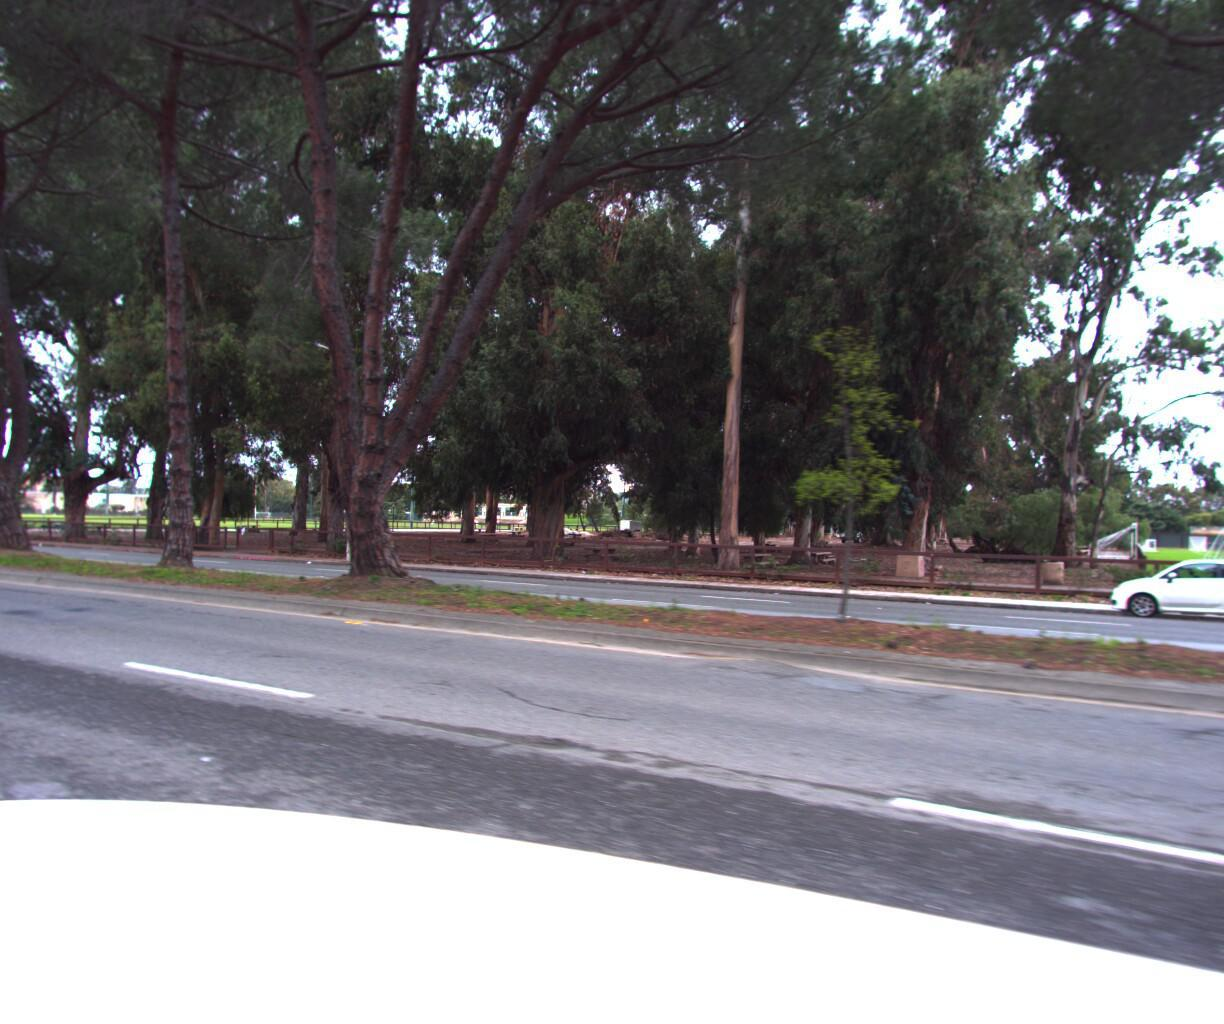car: (1103, 555, 1224, 639)
